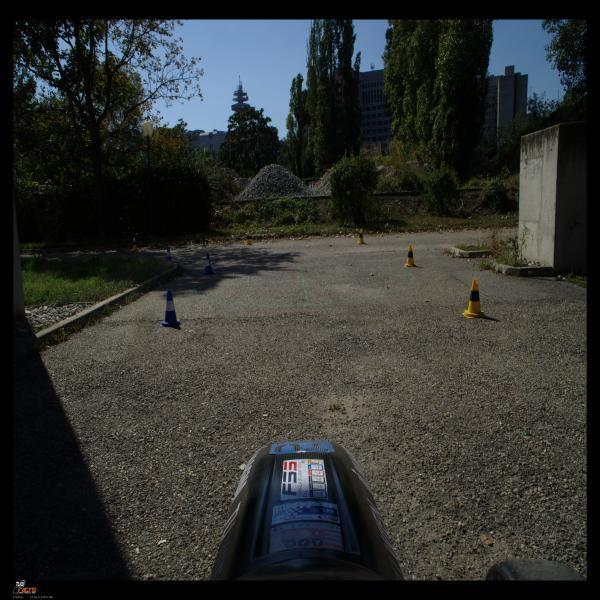blue_cone: (159, 289, 182, 327), (202, 253, 216, 275), (166, 247, 172, 262)
yellow_cone: (462, 279, 487, 318), (404, 245, 418, 268), (357, 229, 366, 244), (245, 231, 252, 245), (132, 238, 138, 251)
